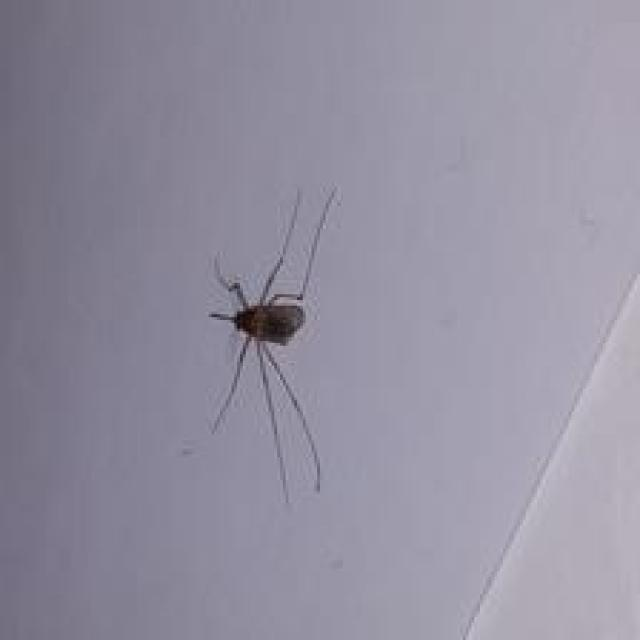Culex: (204, 183, 339, 506)
